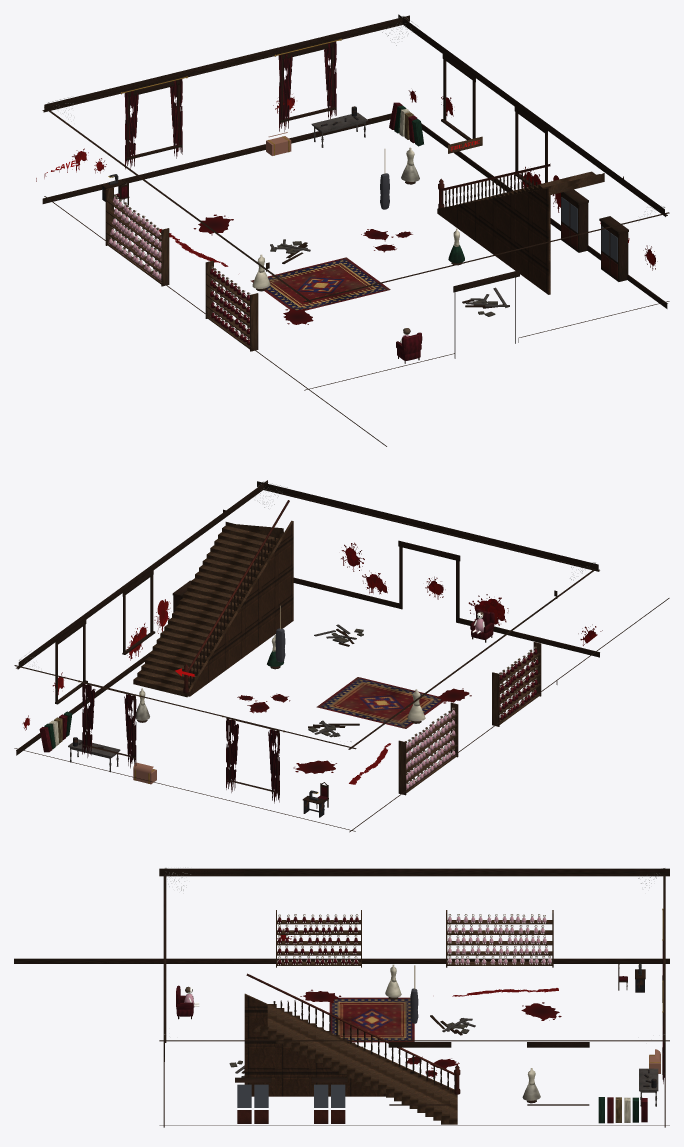
The model's file is dark_dolls_v13.glb.
3 renders of one model, top to bottom at view 1: azimuth 30°, elevation 25°; view 2: azimuth 150°, elevation 25°; view 3: azimuth 270°, elevation 25°, orthographic. The views are drawn at different scales.
Visible parts, largest first — view 1: dark_dolls; view 2: dark_dolls; view 3: dark_dolls.
Part boxes in pixels (x1,y1,x2,y2): dark_dolls: (36, 14, 669, 446); dark_dolls: (14, 480, 669, 832); dark_dolls: (14, 867, 669, 1127).
Size of the model in its own units: 20.48 by 6.53 by 30.84.
Materials: 36 (27 with a texture image).
